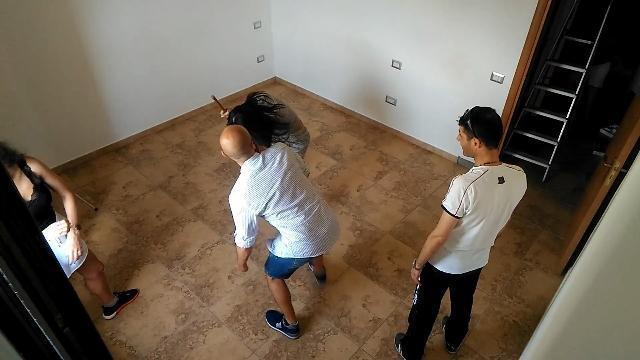non-violence: (402, 100, 530, 360), (0, 134, 140, 322)
violence: (210, 90, 336, 344)
